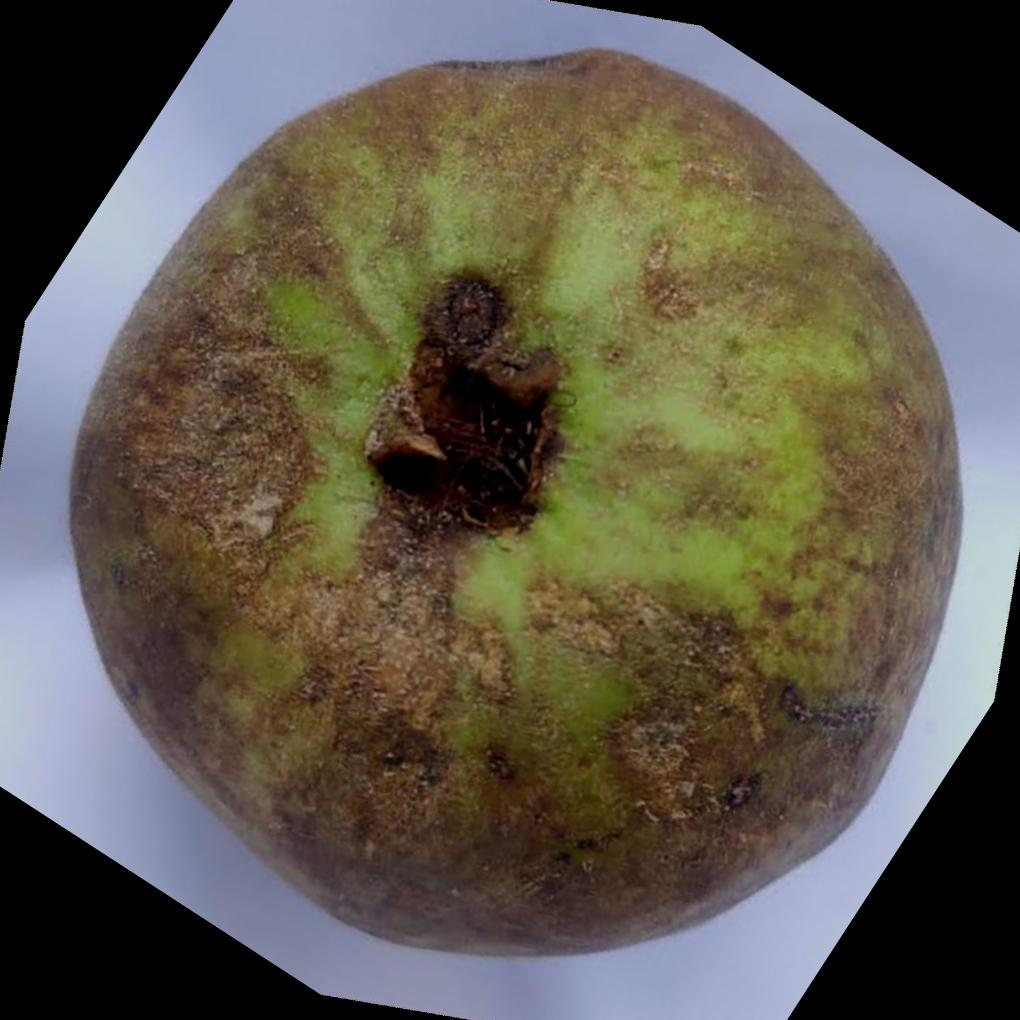FreshOrange: (65, 48, 962, 962)
